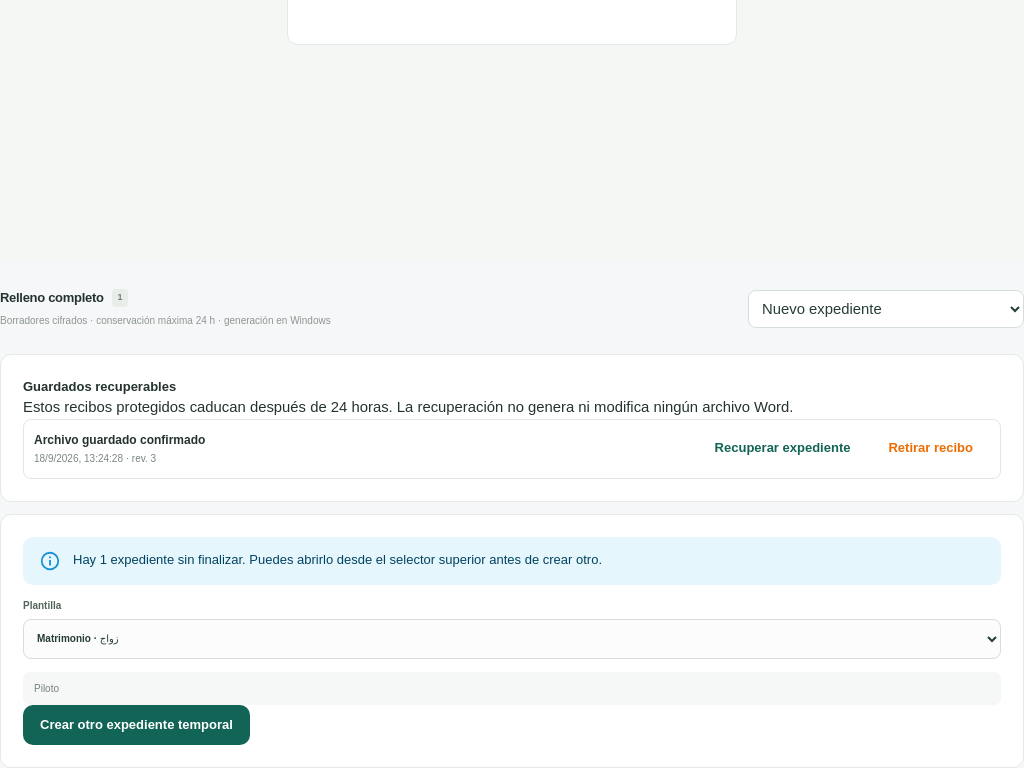
Scenario: complete case native saving › recovers a protected receipt after restart without generating or saving a document
(page scrolled)
Expected: the text "Piloto" is shown, [23,672,1001,705]
Step 1. Click the button "Recuperar expediente" → (782, 449), box [698,429,867,469]
(page scrolled)
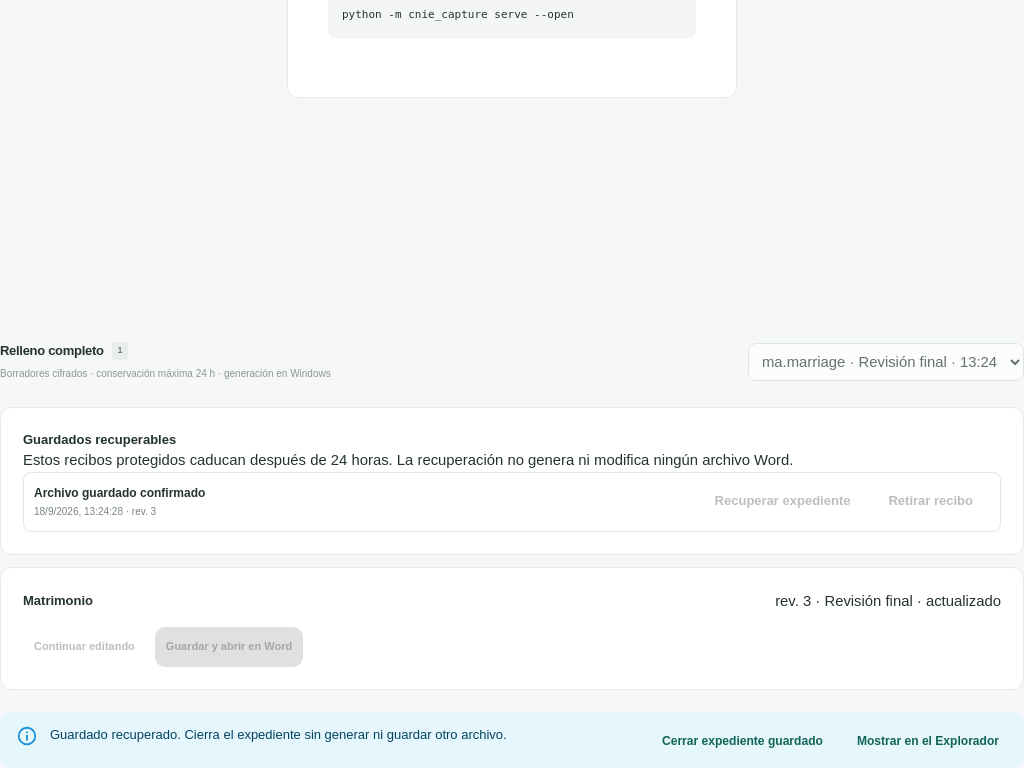
Step 2. Click the button "Cerrar expediente guardado" → (742, 742), box [645,722,840,762]
(page scrolled)
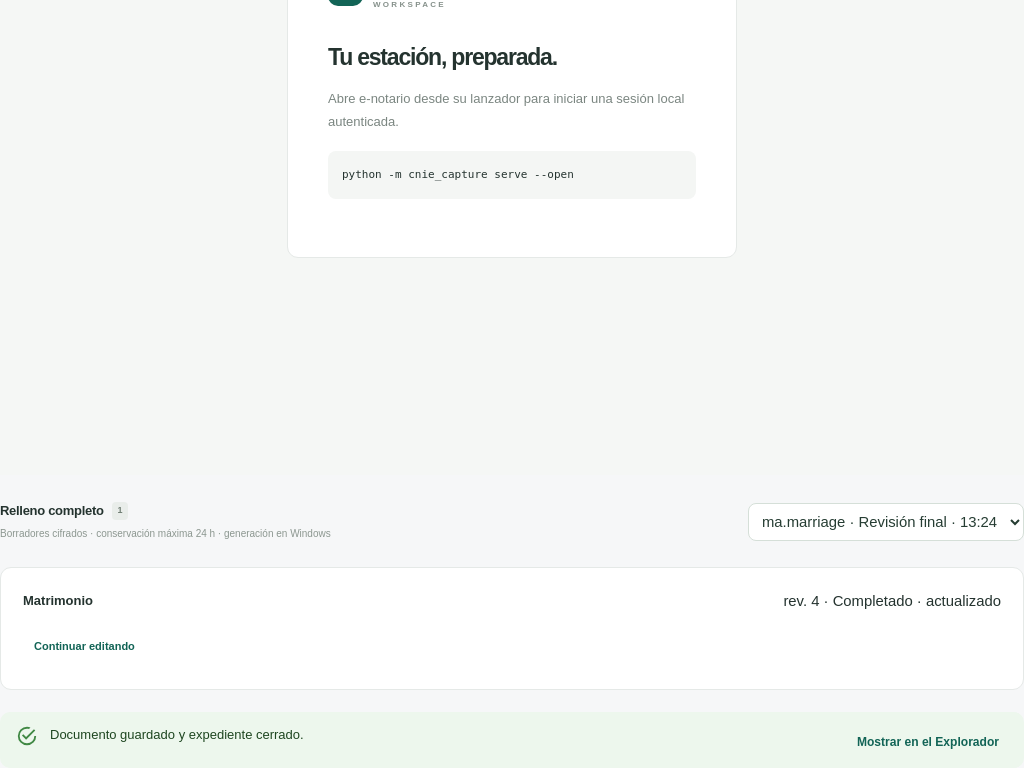
Now the text "Documento guardado y expediente cerrado." is shown, box [50,727,304,742]
Now the heading "Guardados recuperables" is gone
